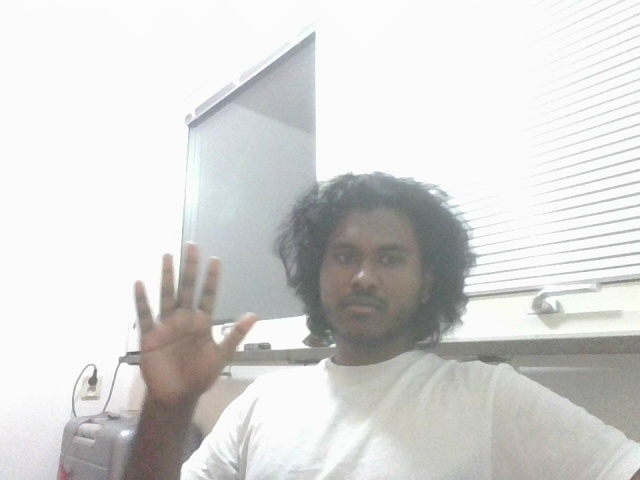hello: (120, 244, 258, 421)
